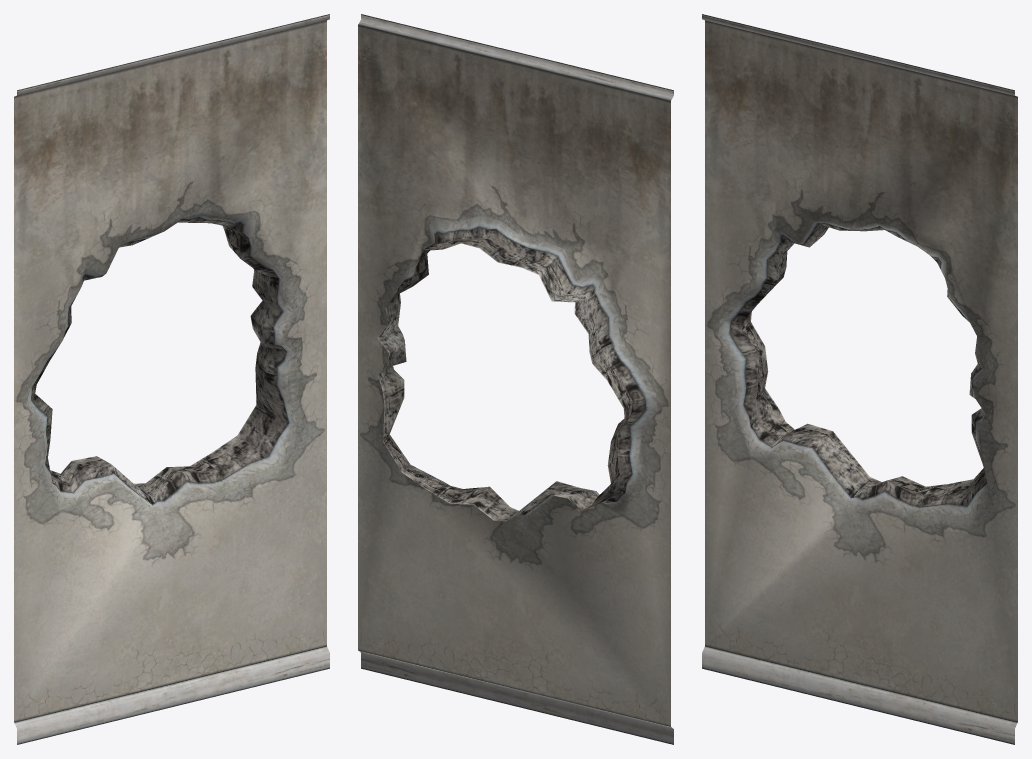
The model's file is livingroom_damaged_hole_small.dae.
3 views of the same model, side by side, from view 1: azimuth 30°, elevation 25°; view 2: azimuth 150°, elevation 25°; view 3: azimuth 330°, elevation 25° (orthographic).
Visible parts, largest first — view 1: polySurface503, polySurface504; view 2: polySurface503, polySurface504; view 3: polySurface503, polySurface504.
Part boxes in pixels (bbox=[...]): polySurface503: bbox=[14, 20, 326, 721]; polySurface504: bbox=[14, 14, 329, 744]; polySurface503: bbox=[358, 25, 670, 726]; polySurface504: bbox=[358, 14, 673, 744]; polySurface503: bbox=[705, 20, 1017, 721]; polySurface504: bbox=[702, 14, 1017, 744].
Bounding box in the file's own units: 2 × 4 × 0.2841.
